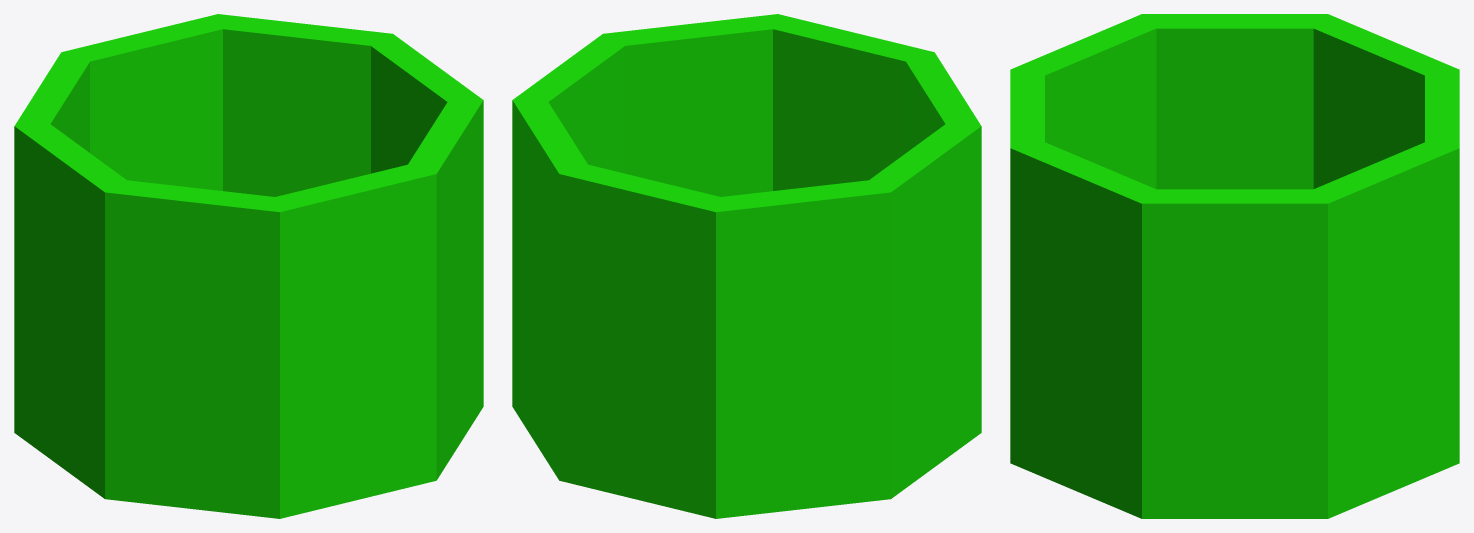
The model's file is sm_wall_360OctSmall_collider.fbx.
3 views of the same model, side by side, from view 1: azimuth 30°, elevation 25°; view 2: azimuth 150°, elevation 25°; view 3: azimuth 270°, elevation 25° (orthographic). The views are drawn at different scales.
Visible parts, largest first — view 1: Circle.026; view 2: Circle.026; view 3: Circle.026.
Boxes of the visible parts, left/top/right/bottom form: Circle.026: left=14, top=14, right=483, bottom=518; Circle.026: left=512, top=14, right=981, bottom=518; Circle.026: left=1010, top=14, right=1459, bottom=518.
Size of the model in its own units: 6.47 by 5.01 by 6.47.
